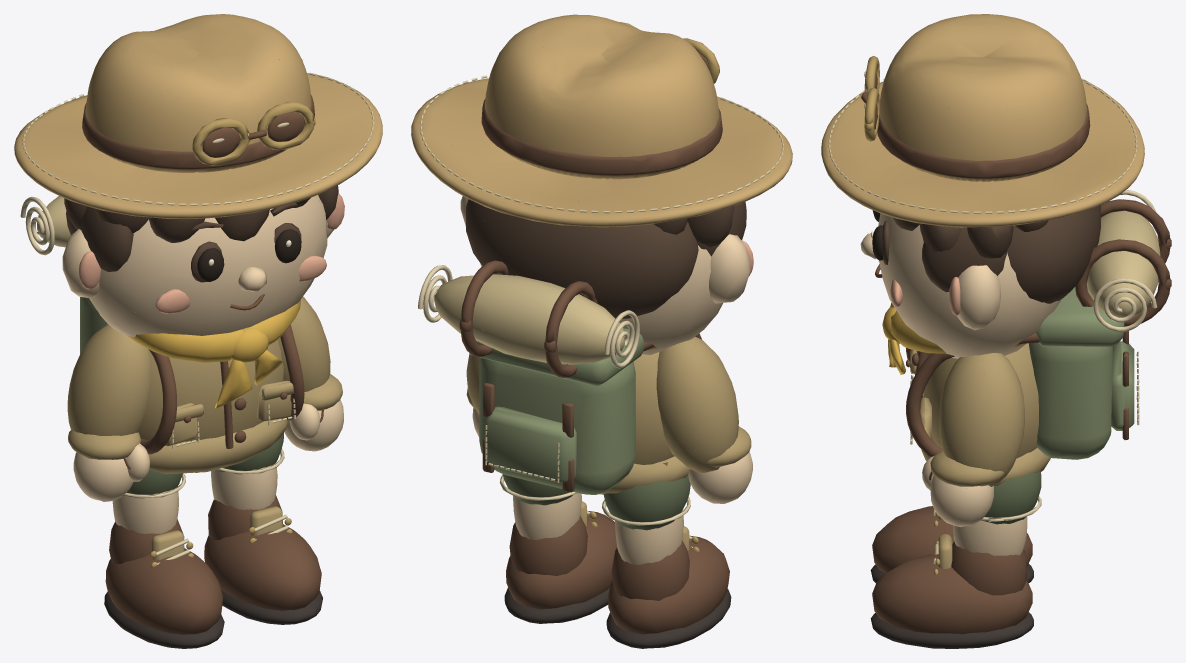
The model's file is scout.glb.
3 renders of one model, left to right at view 1: azimuth 30°, elevation 25°; view 2: azimuth 150°, elevation 25°; view 3: azimuth 270°, elevation 25°, orthographic. The views are drawn at different scales.
Visible parts, largest first — view 1: Mesh / CTRL / hat, Mesh / CTRL / head, Mesh / CTRL / body, Mesh / CTRL / arm -1, Mesh / CTRL / boot -1, Mesh / CTRL / boot 1, Mesh / CTRL / arm 1, Mesh / CTRL / leg -1, Mesh / CTRL / leg 1, Mesh / CTRL / backpack; view 2: Mesh / CTRL / hat, Mesh / CTRL / backpack, Mesh / CTRL / head, Mesh / CTRL / arm -1, Mesh / CTRL / boot -1, Mesh / CTRL / boot 1, Mesh / CTRL / body, Mesh / CTRL / leg -1, Mesh / CTRL / leg 1, Mesh / CTRL / arm 1; view 3: Mesh / CTRL / hat, Mesh / CTRL / head, Mesh / CTRL / backpack, Mesh / CTRL / boot 1, Mesh / CTRL / arm 1, Mesh / CTRL / body, Mesh / CTRL / leg 1, Mesh / CTRL / boot -1.
Part boxes in pixels (bbox=[...]): Mesh / CTRL / hat: bbox=[14, 14, 382, 218]; Mesh / CTRL / head: bbox=[62, 185, 344, 337]; Mesh / CTRL / body: bbox=[128, 299, 304, 474]; Mesh / CTRL / arm -1: bbox=[67, 324, 150, 501]; Mesh / CTRL / boot -1: bbox=[104, 519, 224, 648]; Mesh / CTRL / boot 1: bbox=[204, 495, 322, 624]; Mesh / CTRL / arm 1: bbox=[277, 296, 343, 451]; Mesh / CTRL / leg -1: bbox=[112, 469, 185, 533]; Mesh / CTRL / leg 1: bbox=[211, 433, 284, 509]; Mesh / CTRL / backpack: bbox=[20, 196, 107, 354]; Mesh / CTRL / hat: bbox=[411, 14, 792, 227]; Mesh / CTRL / backpack: bbox=[418, 260, 644, 494]; Mesh / CTRL / head: bbox=[460, 196, 753, 354]; Mesh / CTRL / arm -1: bbox=[656, 336, 752, 503]; Mesh / CTRL / boot -1: bbox=[606, 526, 731, 648]; Mesh / CTRL / boot 1: bbox=[504, 501, 617, 623]; Mesh / CTRL / body: bbox=[482, 333, 701, 494]; Mesh / CTRL / leg -1: bbox=[602, 475, 690, 564]; Mesh / CTRL / leg 1: bbox=[499, 474, 581, 539]; Mesh / CTRL / arm 1: bbox=[466, 353, 479, 436]; Mesh / CTRL / hat: bbox=[821, 14, 1144, 227]; Mesh / CTRL / head: bbox=[860, 205, 1100, 358]; Mesh / CTRL / backpack: bbox=[1029, 190, 1171, 459]; Mesh / CTRL / boot 1: bbox=[870, 534, 1033, 648]; Mesh / CTRL / arm 1: bbox=[922, 353, 1024, 526]; Mesh / CTRL / body: bbox=[882, 303, 1128, 485]; Mesh / CTRL / leg 1: bbox=[953, 471, 1041, 555]; Mesh / CTRL / boot -1: bbox=[870, 506, 1033, 583].
Bounding box in the file's own units: 1.38 × 2.25 × 1.26.
